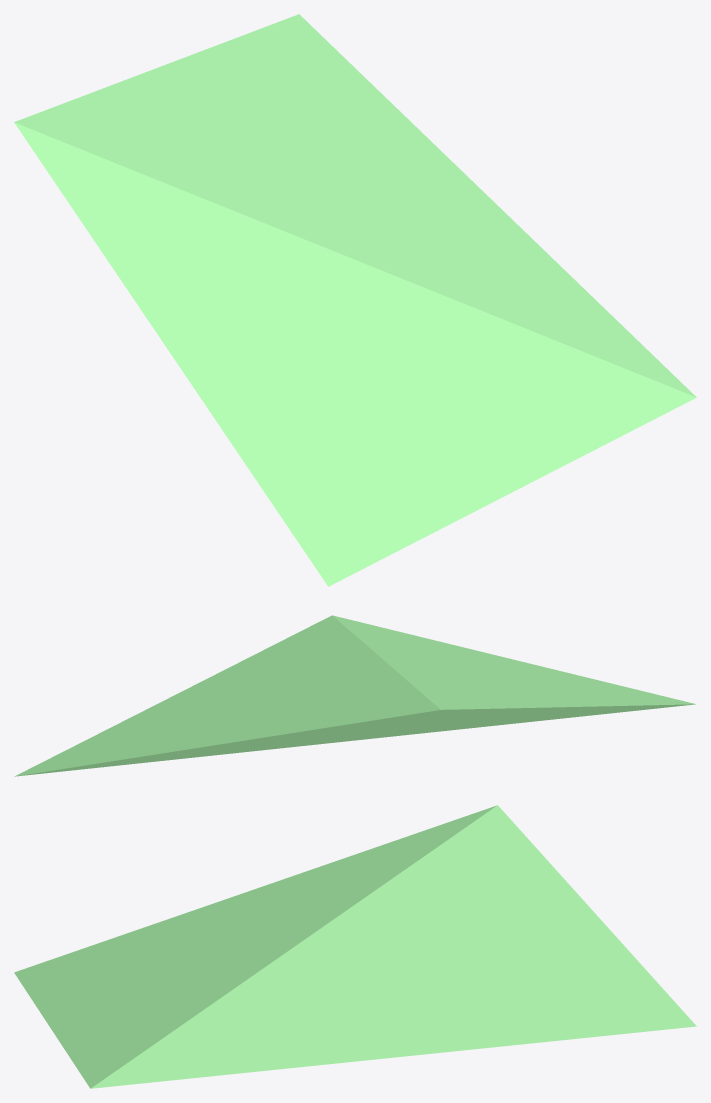
Rendered from linkhou_LR4_R560_link6_respondable_coll_34.dae.
3 renders of one model, top to bottom at view 1: azimuth 30°, elevation 25°; view 2: azimuth 150°, elevation 25°; view 3: azimuth 270°, elevation 25°, orthographic. The views are drawn at different scales.
Visible parts, largest first — view 1: Node_00000298084325F0; view 2: Node_00000298084325F0; view 3: Node_00000298084325F0.
Boxes of the visible parts, x1,y1,x2,y2 form: Node_00000298084325F0: (14, 14, 696, 586); Node_00000298084325F0: (14, 615, 695, 776); Node_00000298084325F0: (14, 805, 696, 1088).
Bounding box in the file's own units: 0.0162 × 0.00824 × 0.03.
